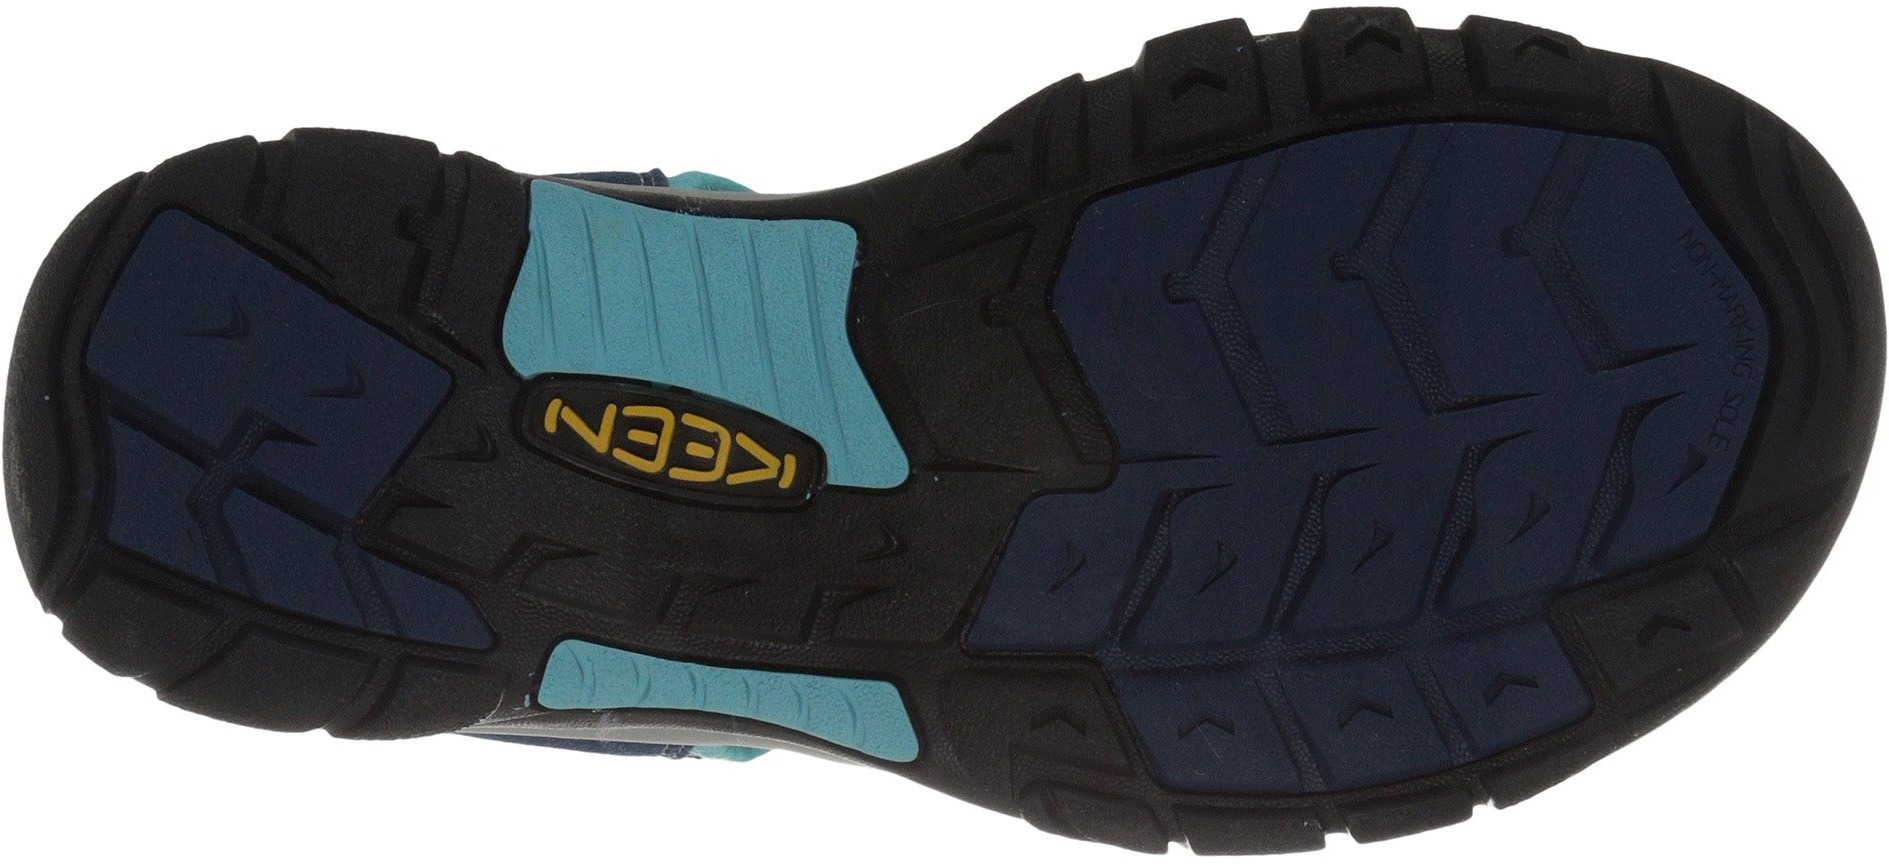chevron: (1044, 121, 1436, 477), (1136, 437, 1469, 798), (1394, 102, 1718, 422), (1466, 399, 1750, 694), (820, 206, 1110, 493)
exclude: (458, 1, 991, 221)
line: (624, 216, 794, 381)
quad: (830, 390, 1144, 664)
